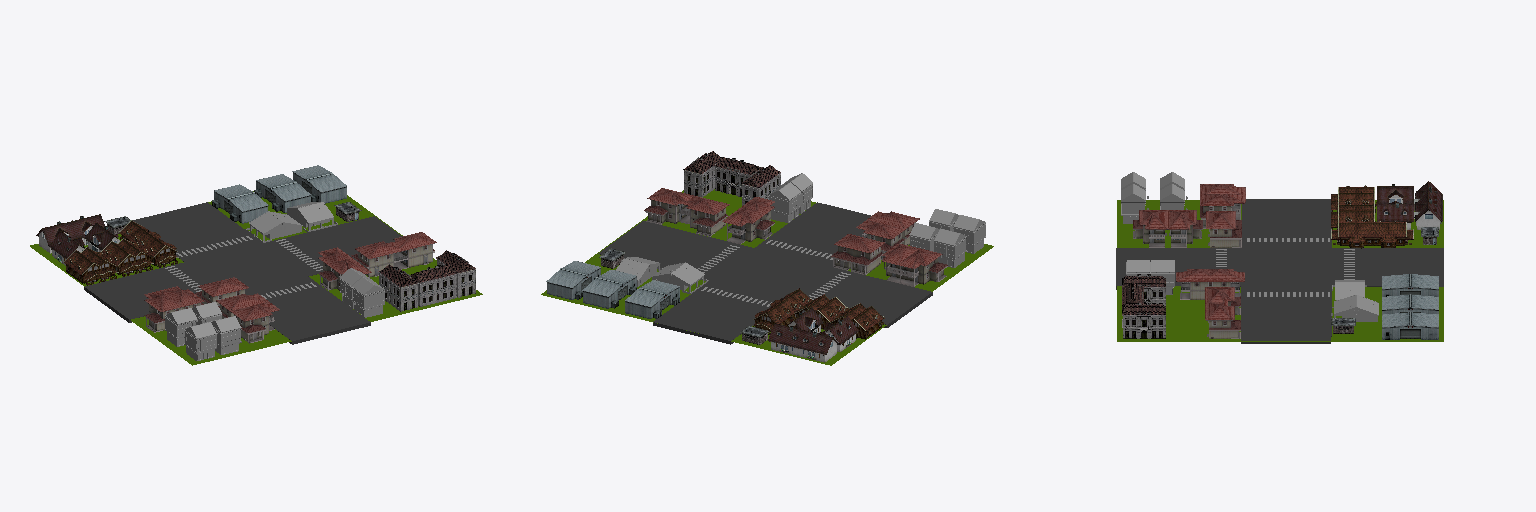
3 views of the same model, side by side, from view 1: azimuth 30°, elevation 25°; view 2: azimuth 150°, elevation 25°; view 3: azimuth 270°, elevation 25° (orthographic).
Parts seen in each view (by area): view 1: Line002, Plane001, City_building_026, City_building_022, City_building_007, City_building_038, City_building_016, City_building_011, City_building_023, City_building_004, City_building_010, City_building_014 (+15 smaller); view 2: Line002, Plane001, City_building_026, City_building_038, City_building_033, City_building_034, City_building_037, City_building_022, City_building_007, City_building_011, City_building_023, City_building_014 (+13 smaller); view 3: Line002, Plane001, City_building_022, City_building_014, City_building_026, City_building_017, City_building_023, City_building_034, City_building_038, City_building_037, City_building_007, City_building_033 (+12 smaller).
Part boxes in pixels (x1,y1,x2,y2): Line002: (84,202,402,344); Plane001: (30,191,482,365); City_building_026: (351,232,436,277); City_building_022: (216,293,279,343); City_building_007: (212,184,268,223); City_building_038: (144,286,204,332); City_building_016: (410,264,456,306); City_building_011: (254,174,310,212); City_building_023: (292,165,346,203); City_building_004: (64,247,118,285); City_building_010: (378,264,418,311); City_building_014: (118,220,178,267); Line002: (598,202,932,344); Plane001: (541,189,993,365); City_building_026: (644,188,729,236); City_building_038: (882,243,947,286); City_building_033: (768,323,839,362); City_building_034: (722,197,774,244); City_building_037: (831,234,884,274); City_building_022: (856,211,919,259); City_building_007: (625,280,679,318); City_building_011: (582,270,636,308); City_building_023: (546,261,600,299); City_building_014: (752,288,810,334); Line002: (1116,199,1443,343); Plane001: (1117,200,1443,341); City_building_022: (1133,210,1202,247); City_building_014: (1331,221,1413,248); City_building_026: (1205,287,1240,338); City_building_017: (1122,303,1165,338); City_building_023: (1382,312,1438,339); City_building_034: (1176,269,1244,299); City_building_038: (1200,184,1245,228); City_building_037: (1206,211,1241,247); City_building_007: (1382,274,1438,296); City_building_033: (1414,181,1442,229).
Bounding box in the file's own units: 96.86 × 11.25 × 94.37.
Materials: 11 (6 with a texture image).